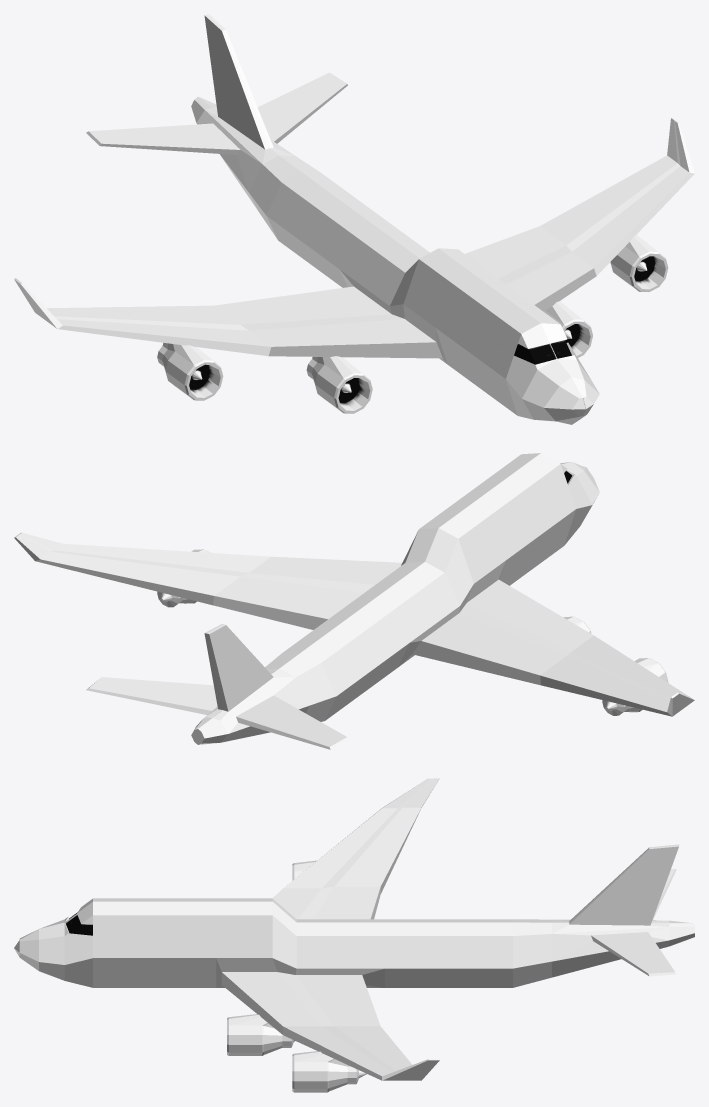
3 views of the same model, one above another, from view 1: azimuth 30°, elevation 25°; view 2: azimuth 150°, elevation 25°; view 3: azimuth 270°, elevation 25° (orthographic). The views are drawn at different scales.
Visible parts, largest first — view 1: Cube; view 2: Cube; view 3: Cube.
Part boxes in pixels (x1=…): Cube: x1=14, y1=14, x2=694, y2=424; Cube: x1=14, y1=453, x2=694, y2=749; Cube: x1=14, y1=778, x2=694, y2=1092.
Size of the model in its own units: 23.67 by 6.34 by 24.17.
Materials: 1 (1 with a texture image).
